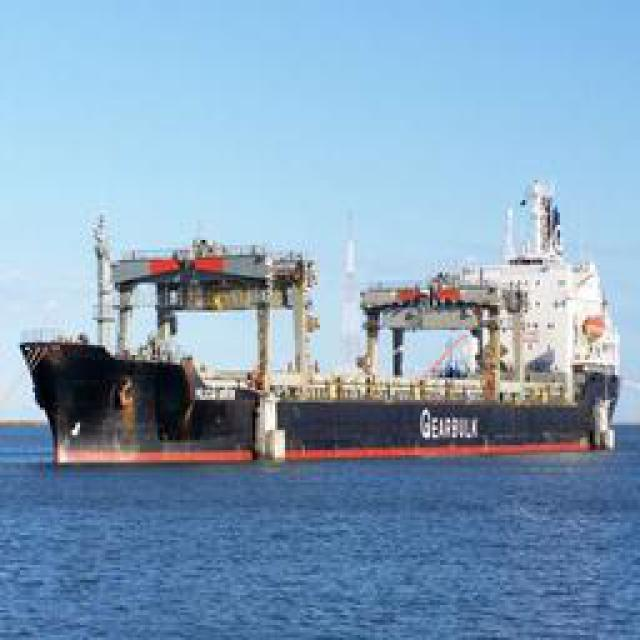Ship: (24, 185, 624, 463)
